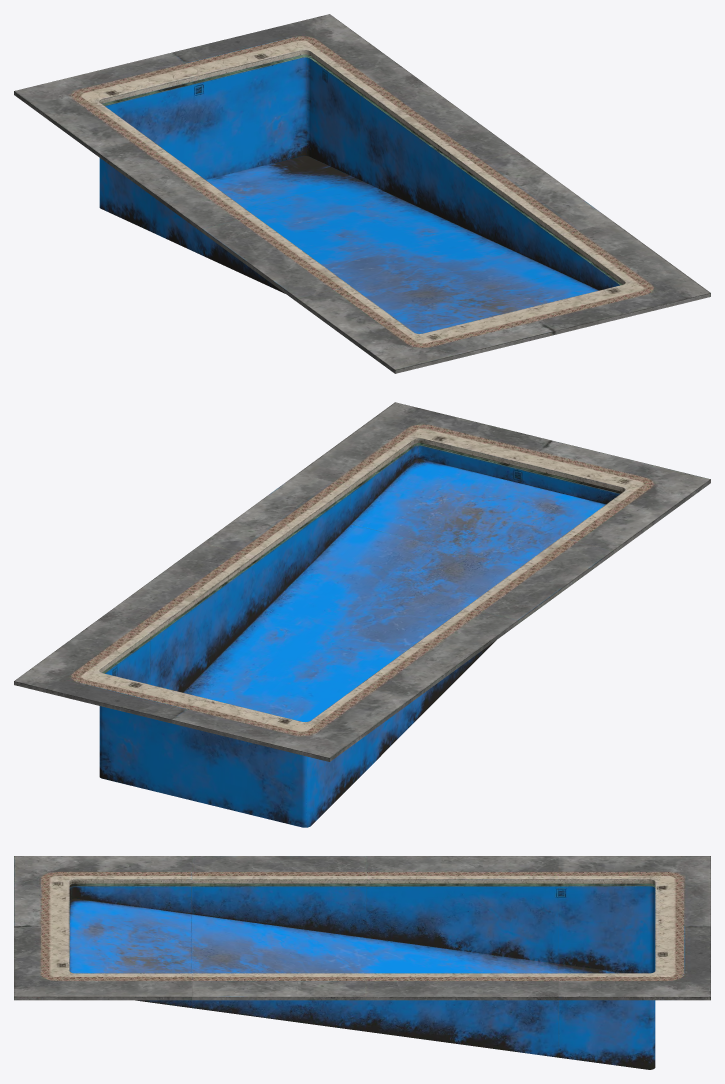
The model's file is swimming_pool.glb.
3 views of the same model, one above another, from view 1: azimuth 30°, elevation 25°; view 2: azimuth 150°, elevation 25°; view 3: azimuth 270°, elevation 25° (orthographic). The views are drawn at different scales.
Parts seen in each view (by area): view 1: Cube__0; view 2: Cube__0; view 3: Cube__0.
Part boxes in pixels (x1,y1,x2,y2): Cube__0: (14,14,710,373); Cube__0: (14,402,710,827); Cube__0: (14,856,710,1069).
Bounding box in the file's own units: 55.04 × 17.6 × 115.
Materials: 1 (1 with a texture image).
